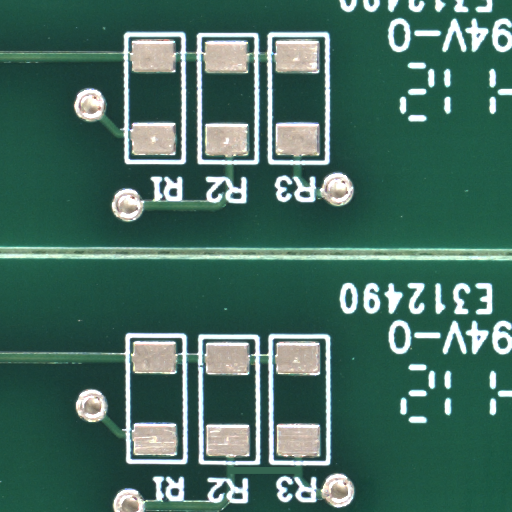Short: (264, 470, 343, 485)
